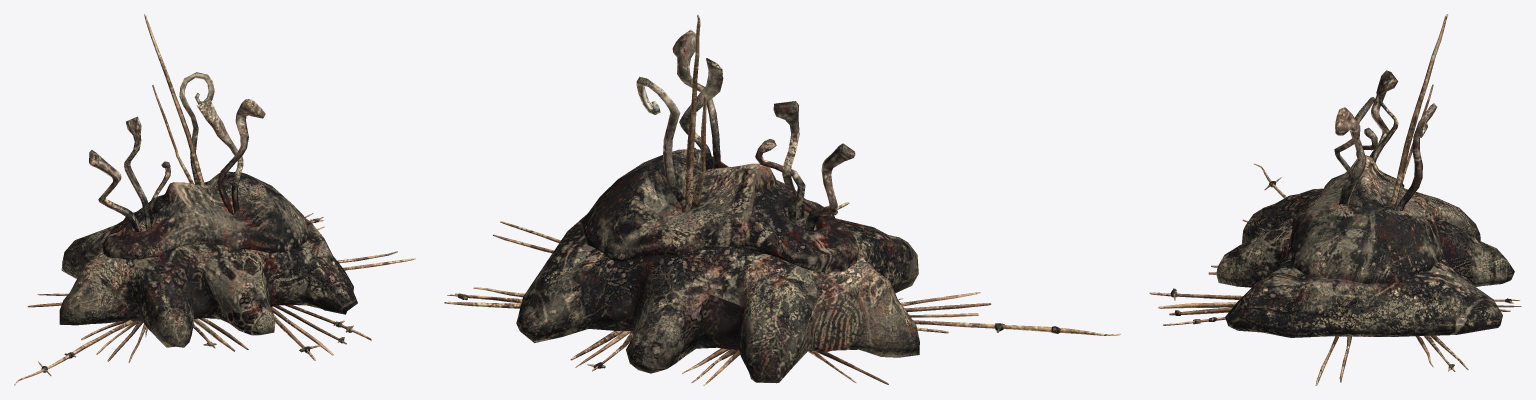
Rendered from fetish_large_face.DAE.
The picture shows the model from 3 angles, left to right: view 1: azimuth 30°, elevation 25°; view 2: azimuth 150°, elevation 25°; view 3: azimuth 270°, elevation 25°; orthographic projection. The views are drawn at different scales.
Parts seen in each view (by area): view 1: fetish_large_face; view 2: fetish_large_face; view 3: fetish_large_face.
Boxes of the visible parts, bbox=[...] form: fetish_large_face: bbox=[14, 14, 415, 385]; fetish_large_face: bbox=[444, 14, 1120, 385]; fetish_large_face: bbox=[1149, 14, 1521, 385].
Bounding box in the file's own units: 2.48 × 1.4 × 1.76.
